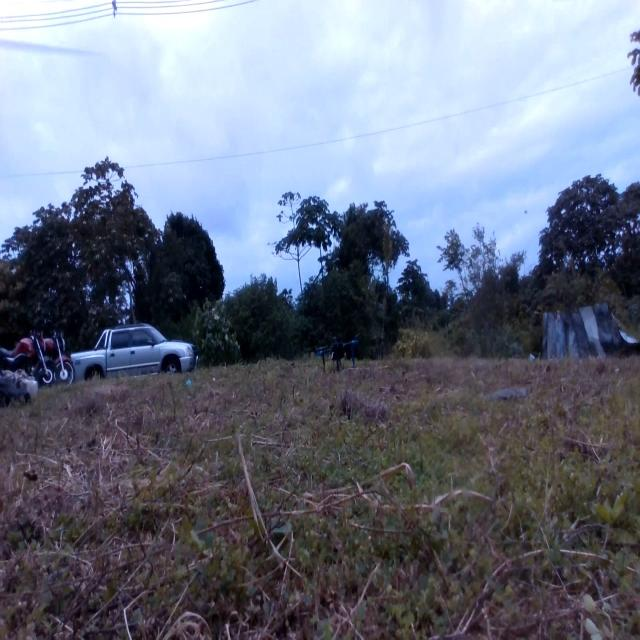-uav-: (310, 328, 368, 380)
